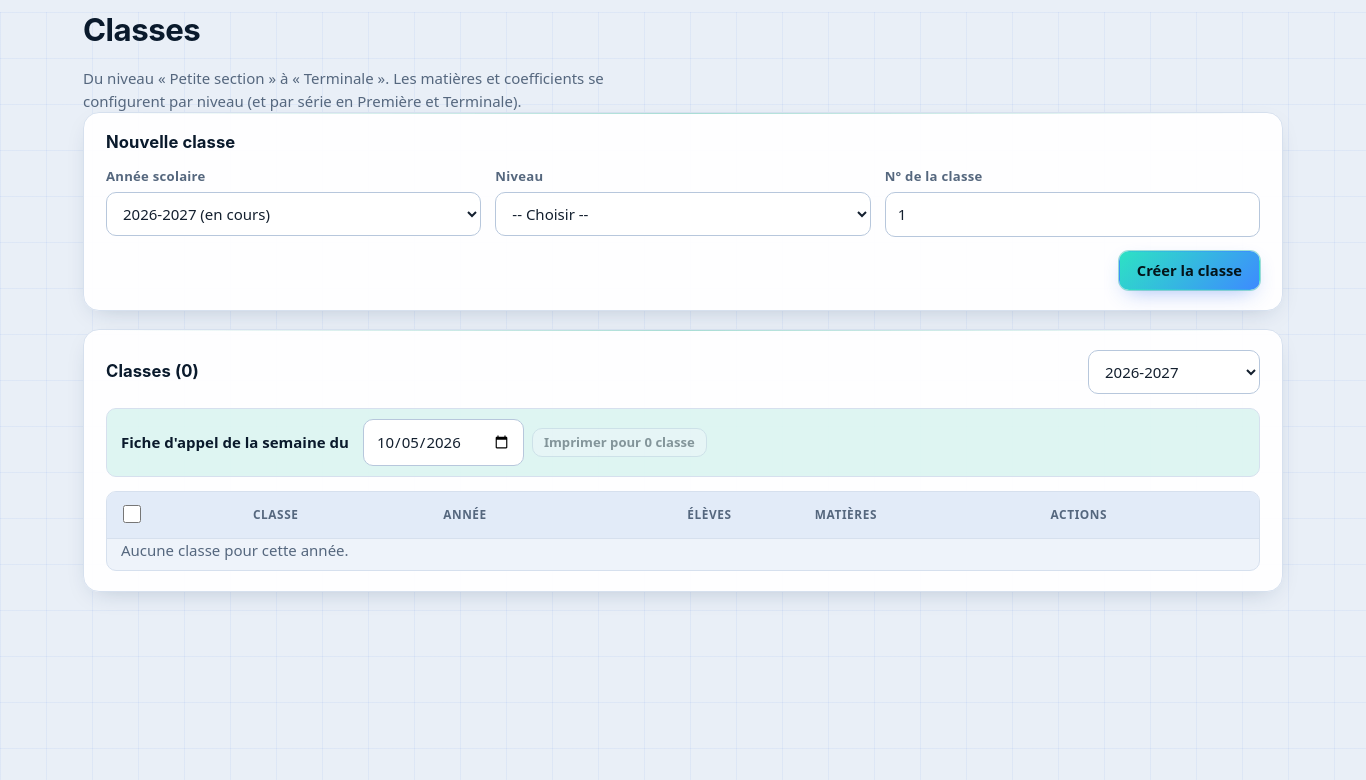
it: Création d’une classe › la série n’apparaît qu’à partir de la Première et le nom est prévisualisé
Select "5ème" in the dropdown labelled "Niveau" at {"x": 683, "y": 214}, box [495,192,871,236]
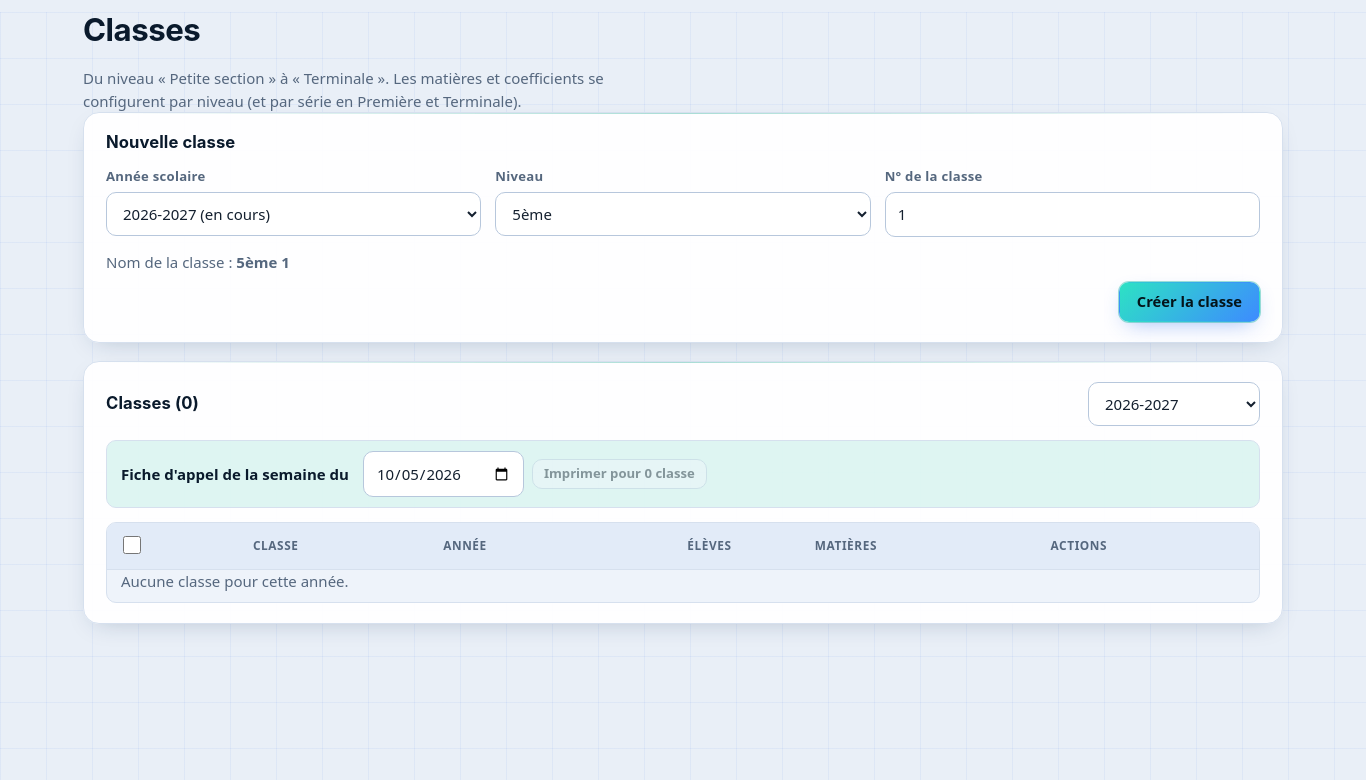
Check: the field labelled "Série" is not shown
Check: the text "5ème 1" is shown, box [236,252,290,272]
Select "Terminale" in the dropdown labelled "Niveau" at {"x": 683, "y": 214}, box [495,192,871,236]
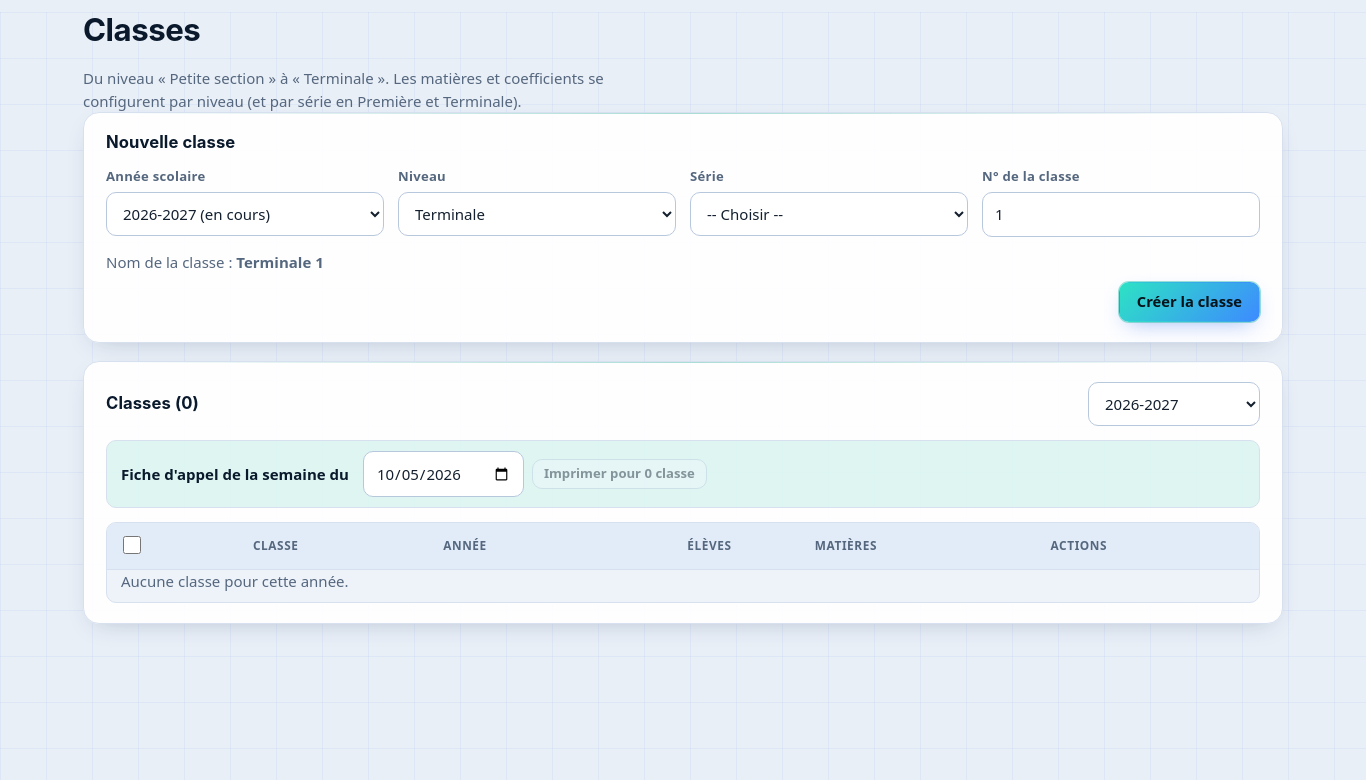
Select "Série L" in the dropdown labelled "Série" at {"x": 829, "y": 214}, box [690,192,968,236]
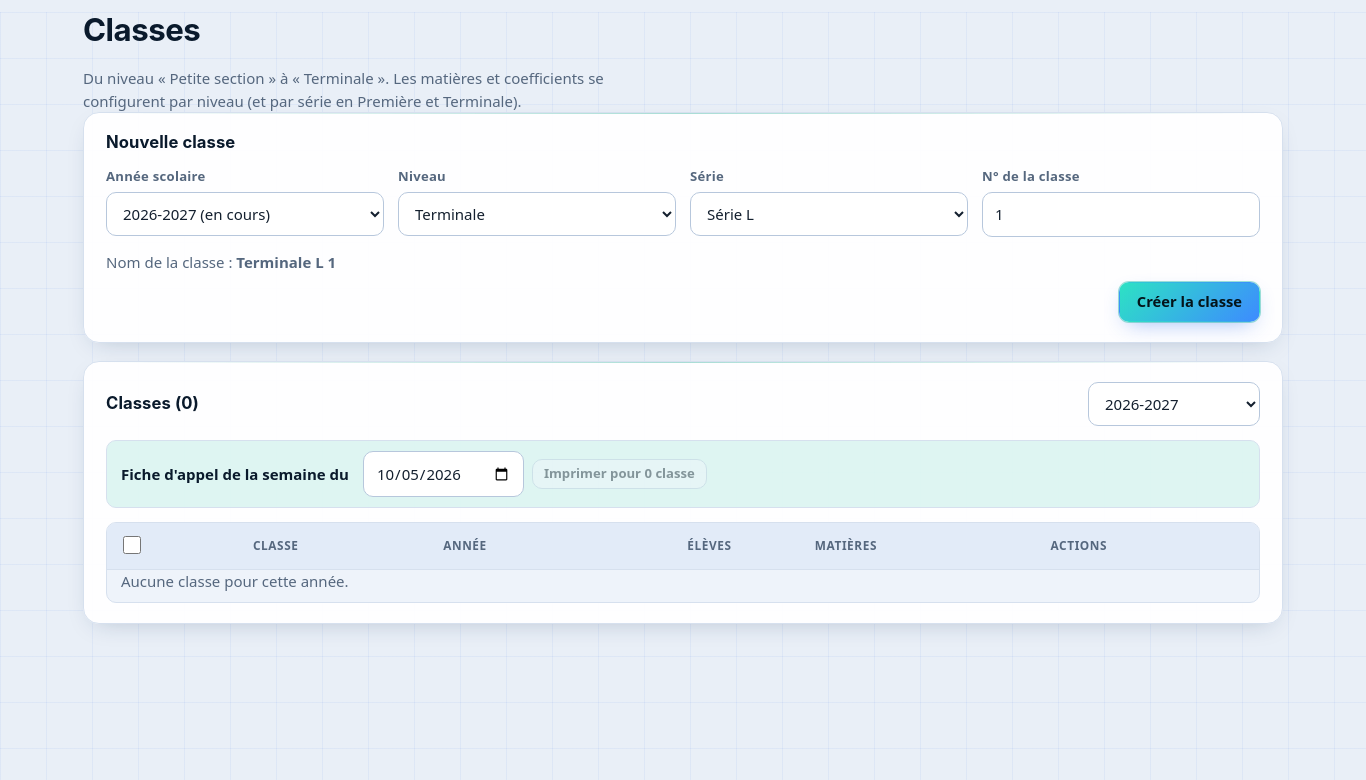
Replace the text in the number field labelled "N° de la classe" with "2" at {"x": 1121, "y": 214}, box [982,192,1260,237]
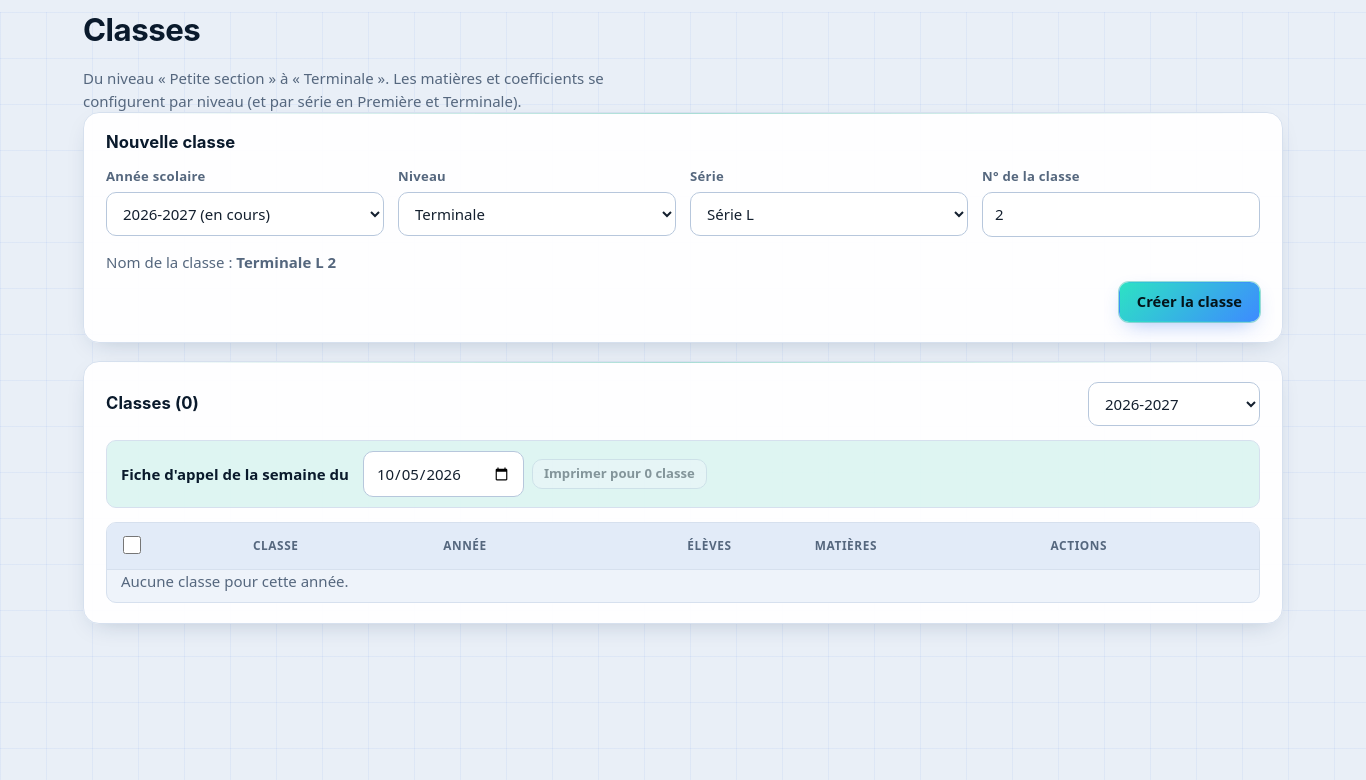
Check: the text "Terminale L 2" is shown, box [236,252,336,272]
